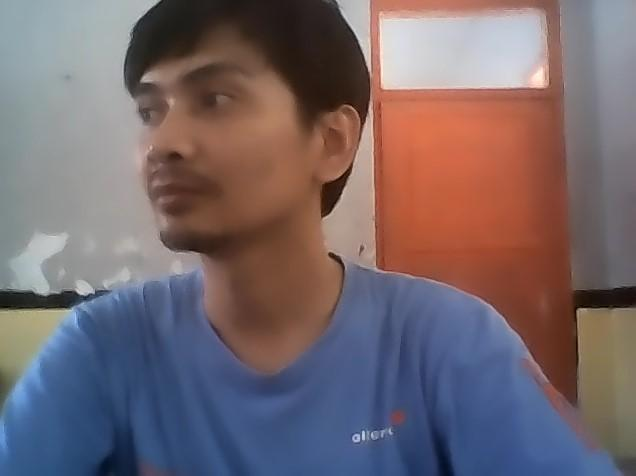cheating: (2, 1, 636, 476)
